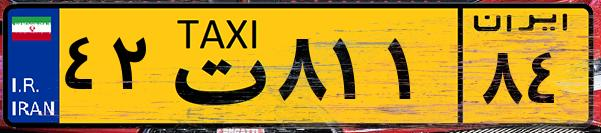1: (385, 28, 445, 110), (330, 28, 385, 110)
2: (110, 28, 158, 98)
4: (57, 26, 110, 100), (525, 38, 570, 115)
8: (270, 28, 330, 110), (475, 38, 525, 113)
ت: (158, 12, 270, 120)
